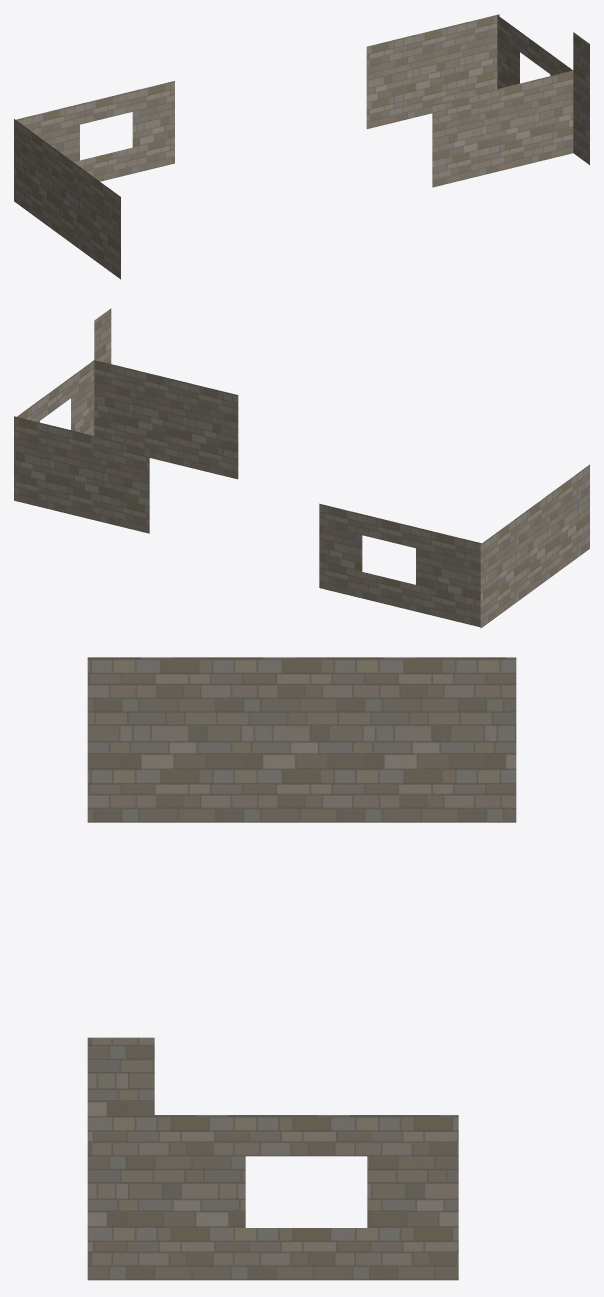
The model's file is exterior.glb.
The picture shows the model from 3 angles, top to bottom: view 1: azimuth 30°, elevation 25°; view 2: azimuth 150°, elevation 25°; view 3: azimuth 270°, elevation 25°; orthographic projection. The views are drawn at different scales.
Parts seen in each view (by area): view 1: exterior-0; view 2: exterior-0; view 3: exterior-0.
Boxes of the visible parts, left/top/right/bottom form: exterior-0: left=14, top=14, right=589, bottom=279; exterior-0: left=14, top=308, right=589, bottom=628; exterior-0: left=87, top=657, right=516, bottom=1280.
Bounding box in the file's own units: 17.9 × 4.4 × 7.05.
Materials: 1 (1 with a texture image).
